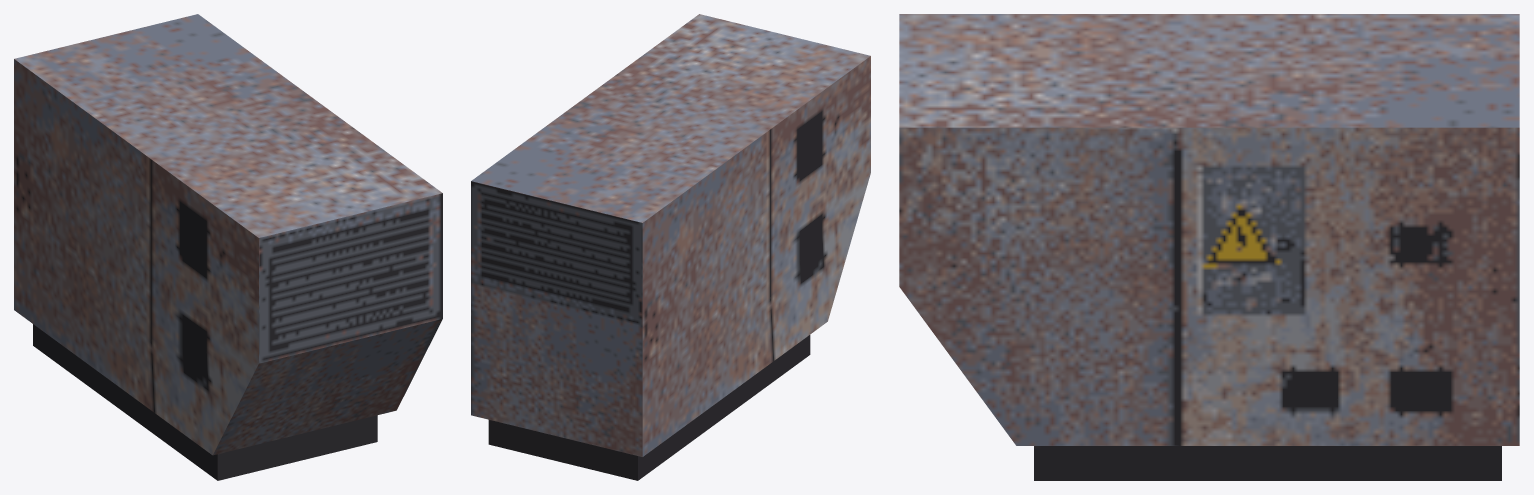
The model's file is retro_generator.glb.
The picture shows the model from 3 angles, left to right: view 1: azimuth 30°, elevation 25°; view 2: azimuth 150°, elevation 25°; view 3: azimuth 270°, elevation 25°; orthographic projection. The views are drawn at different scales.
Parts seen in each view (by area): view 1: Generator; view 2: Generator; view 3: Generator.
Boxes of the visible parts, <box> form: Generator: <box>14,14,442,480</box>; Generator: <box>471,14,870,480</box>; Generator: <box>899,14,1519,480</box>.
Bounding box in the file's own units: 1.13 × 1.67 × 2.61.
Materials: 1 (1 with a texture image).
